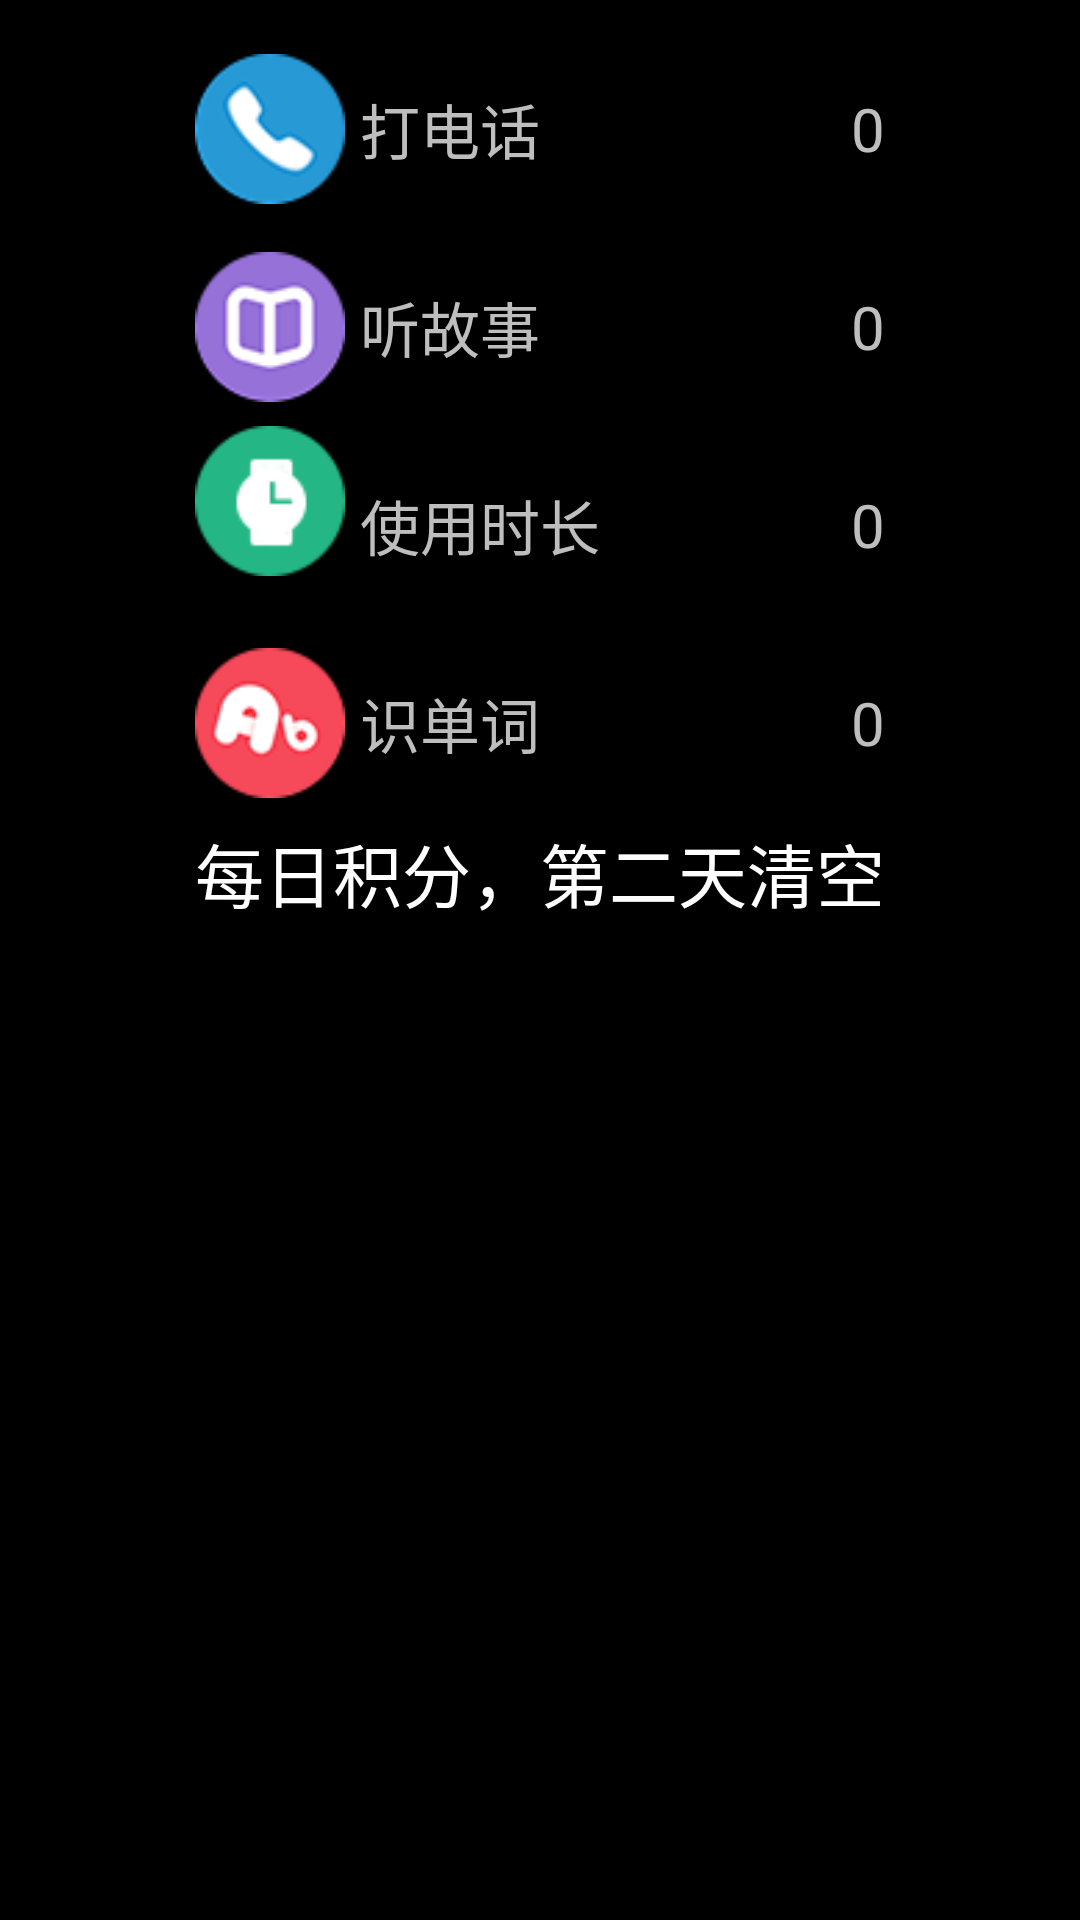

Icon bounding boxes for this 1080x1920 phone screenshot, format (x1, y1, x2, y2):
call: (195, 54, 345, 204)
duration: (195, 426, 345, 576)
english: (195, 648, 345, 798)
story: (195, 252, 345, 402)
